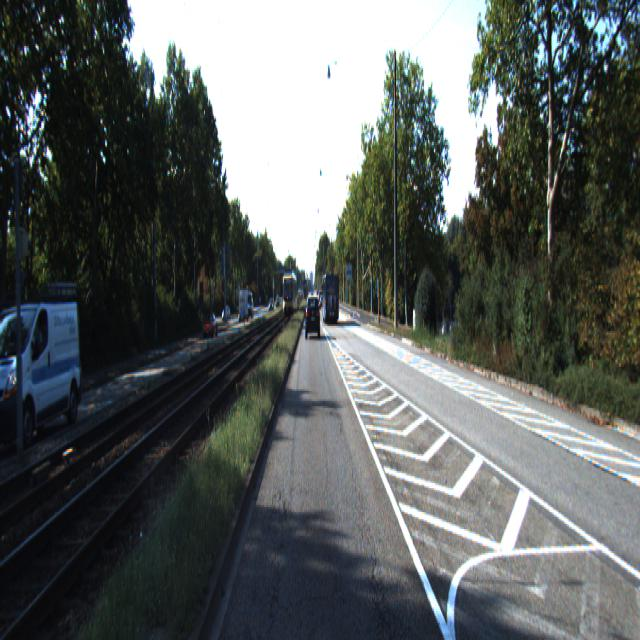Car: (0, 301, 88, 458), (322, 272, 339, 325), (306, 296, 320, 341), (202, 312, 218, 340)
